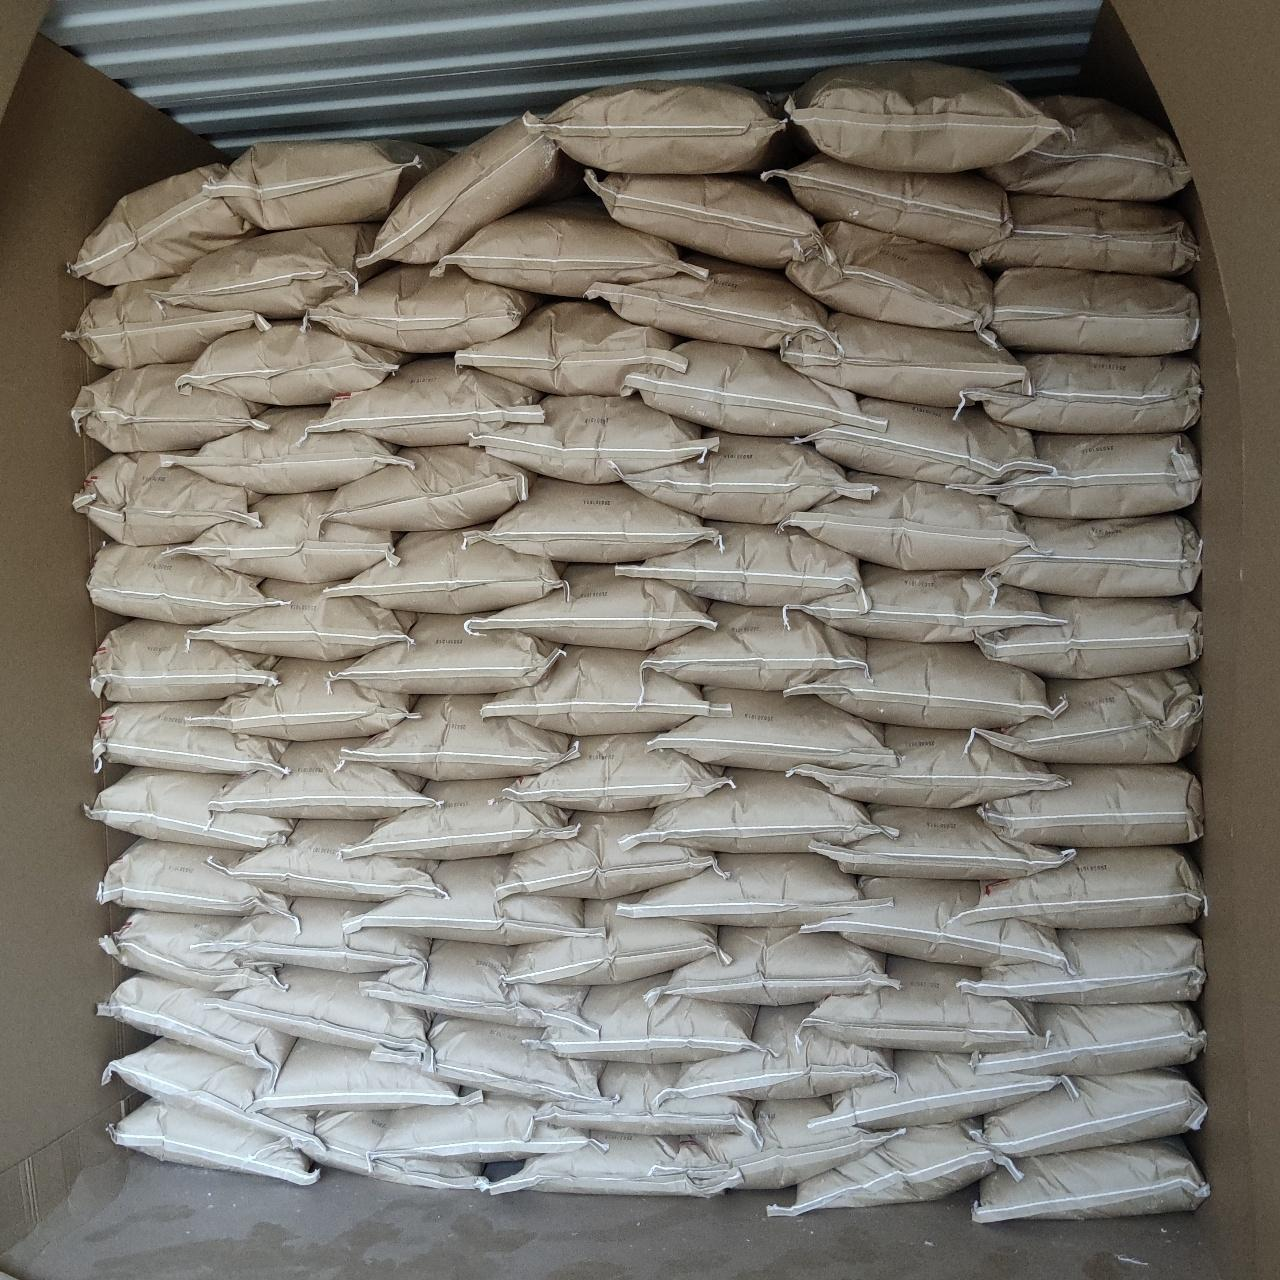sack: (360, 116, 582, 270), (786, 62, 1060, 168), (102, 1038, 323, 1154), (434, 200, 700, 296), (786, 640, 1058, 726), (802, 878, 1064, 966), (766, 156, 1006, 252), (800, 398, 1050, 490), (782, 312, 1024, 406), (536, 82, 788, 172), (626, 340, 862, 436), (68, 164, 256, 284), (660, 1096, 902, 1189), (788, 726, 1068, 806), (588, 172, 820, 268), (592, 256, 826, 350), (362, 940, 596, 1034), (770, 1124, 1014, 1214), (782, 476, 1024, 566), (624, 434, 870, 522), (203, 140, 442, 230), (346, 856, 596, 942), (982, 96, 1190, 198), (786, 224, 990, 328), (808, 956, 1034, 1048), (672, 1004, 888, 1100), (786, 564, 1056, 640), (458, 302, 684, 392), (97, 975, 294, 1078), (952, 846, 1204, 926), (168, 408, 408, 492), (468, 478, 712, 560), (174, 492, 396, 582), (978, 670, 1200, 760), (474, 396, 706, 482), (316, 358, 542, 446), (616, 522, 856, 604), (308, 266, 542, 350), (372, 1016, 600, 1102), (810, 1052, 1068, 1128), (636, 770, 874, 852), (974, 1138, 1206, 1222), (484, 648, 710, 734), (468, 566, 708, 646), (166, 226, 374, 318), (984, 1070, 1206, 1156), (536, 976, 756, 1062), (968, 434, 1198, 516), (646, 604, 870, 688), (340, 780, 574, 860), (330, 530, 558, 612), (650, 928, 896, 1004), (510, 896, 726, 982), (212, 820, 444, 900), (960, 926, 1204, 1002), (814, 806, 1070, 878), (980, 764, 1202, 846), (346, 696, 568, 778), (180, 322, 402, 404), (334, 614, 560, 694), (970, 196, 1196, 276), (496, 812, 716, 894), (656, 690, 886, 768), (962, 354, 1198, 430), (194, 898, 428, 974), (978, 596, 1200, 676), (71, 363, 269, 452), (618, 854, 862, 926), (200, 658, 414, 740), (188, 580, 412, 658), (986, 270, 1198, 352), (536, 1062, 758, 1140), (502, 734, 728, 810), (66, 282, 270, 366), (990, 514, 1198, 596), (282, 1110, 489, 1192), (328, 446, 530, 530), (84, 768, 290, 850), (110, 1100, 316, 1182), (976, 1002, 1204, 1076), (210, 742, 436, 816), (489, 1132, 739, 1197), (220, 968, 428, 1046), (74, 454, 258, 542), (254, 1040, 478, 1112), (90, 542, 280, 622), (96, 838, 288, 916), (376, 1094, 602, 1160), (100, 910, 286, 990), (92, 620, 274, 700), (92, 702, 286, 774)
